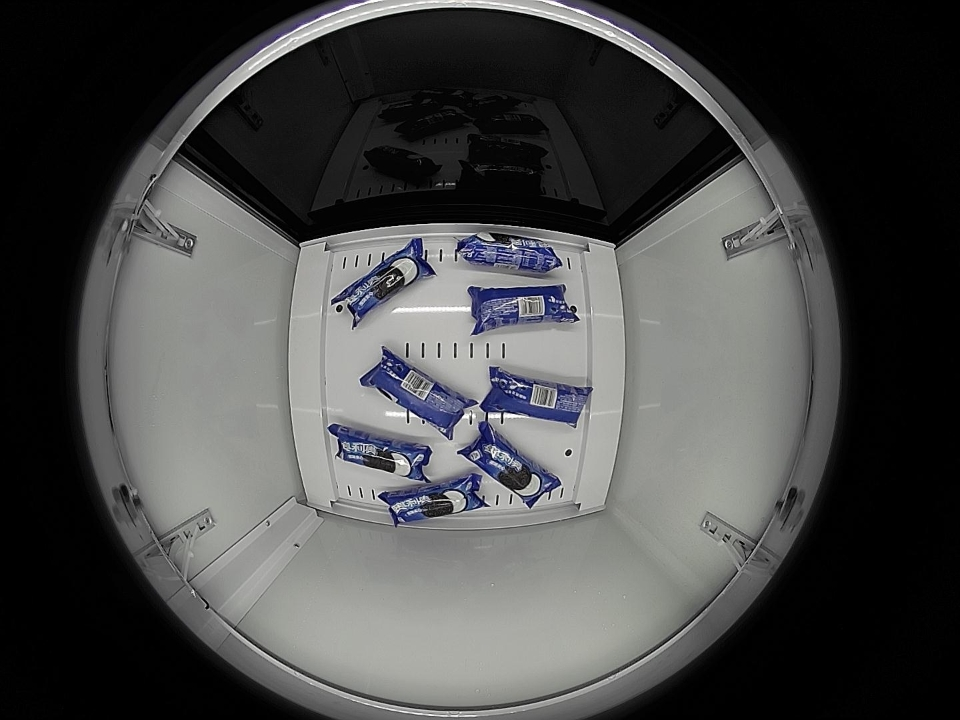aoliao: (363, 347, 478, 441), (330, 235, 438, 328), (457, 422, 561, 507), (485, 369, 591, 429), (438, 230, 558, 276), (465, 285, 584, 330), (330, 429, 429, 481), (376, 481, 485, 524)
